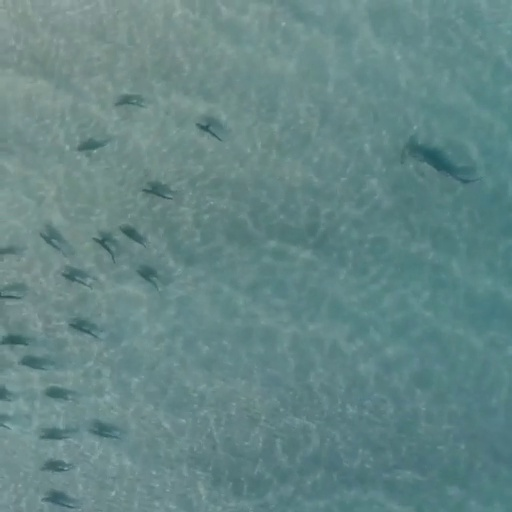shark: (398, 134, 483, 191)
